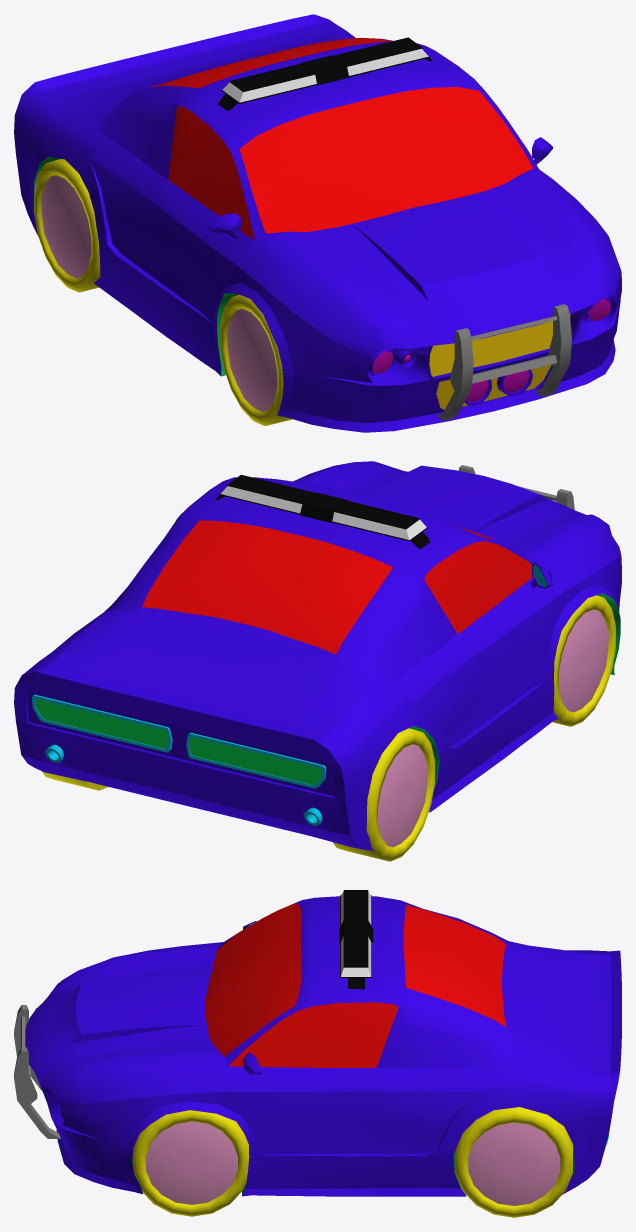
File: 01_SteinMambaPolice_ColorCoded.fbx
3 views of the same model, one above another, from view 1: azimuth 30°, elevation 25°; view 2: azimuth 150°, elevation 25°; view 3: azimuth 270°, elevation 25° (orthographic). The views are drawn at different scales.
Parts seen in each view (by area): view 1: Body, tireBackR, tireFrontR, police_light, police_ram; view 2: Body, tireBackR, tireFrontR, police_light; view 3: Body, tireBackL, tireFrontL, police_light, police_ram.
Boxes of the visible parts, x1,y1,x2,y2 form: Body: (14,14,621,432); tireBackR: (34,159,100,292); tireFrontR: (220,294,292,425); police_light: (218,37,432,110); police_ram: (436,304,571,420); Body: (14,461,621,850); tireBackR: (333,728,435,861); tireFrontR: (552,595,615,726); police_light: (216,474,430,548); Body: (25,896,621,1196); tireBackL: (455,1107,572,1217); tireFrontL: (133,1110,249,1216); police_light: (339,890,373,989); police_ram: (14,1005,60,1138).
Size of the model in its own units: 66.51 by 116 by 46.08.
